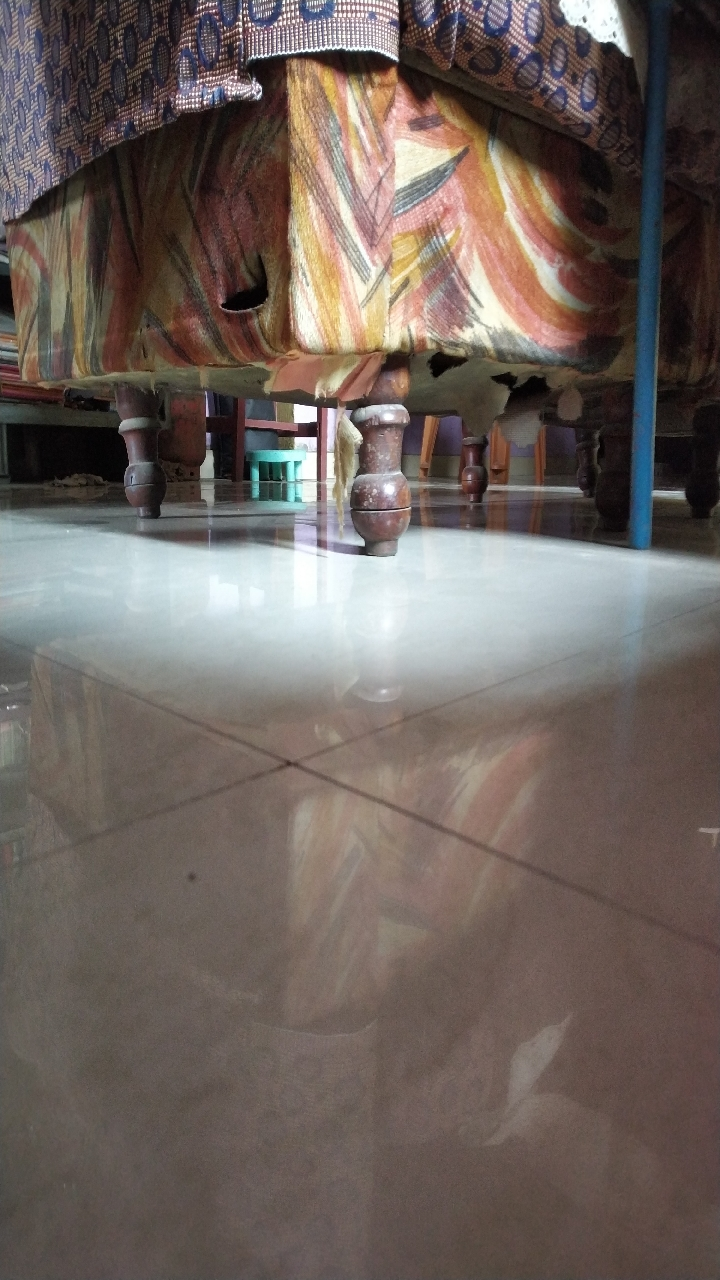Furnitures: (83, 314, 490, 585), (460, 365, 708, 565)
